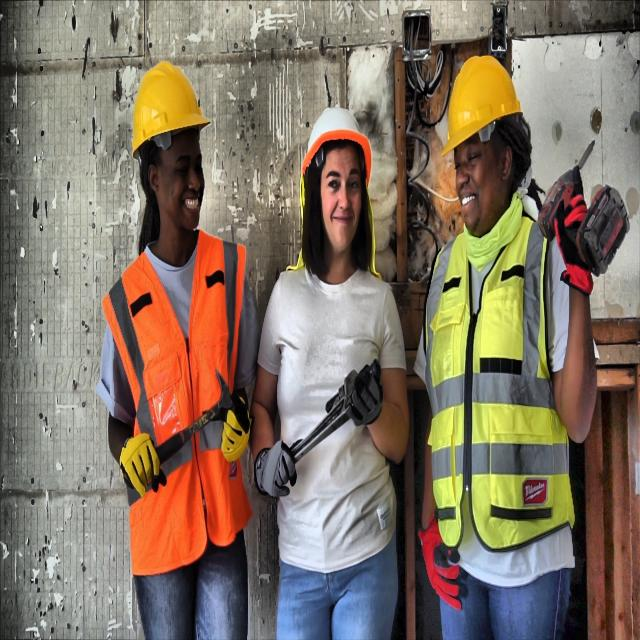gloved: (547, 179, 602, 302), (412, 517, 474, 620), (328, 357, 398, 432), (115, 428, 172, 508), (213, 380, 254, 491), (256, 444, 305, 506)
